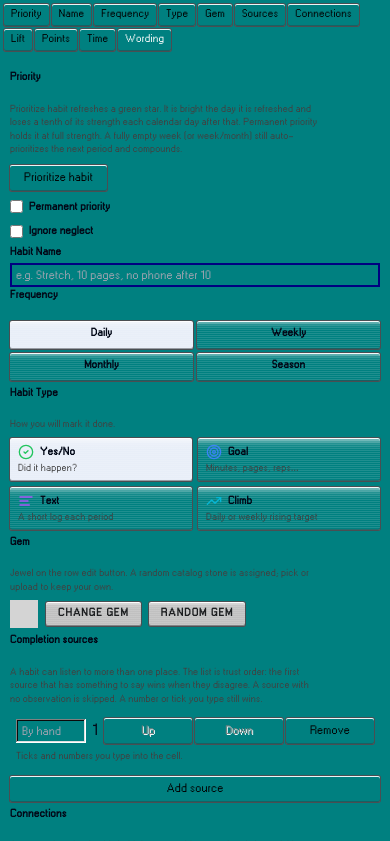
TaskForm › reveals climb cadence fields when Climb type is selected
Click the radio button labelled "Climb Daily or weekly rising target": point(289, 508) [198,486,380,530]
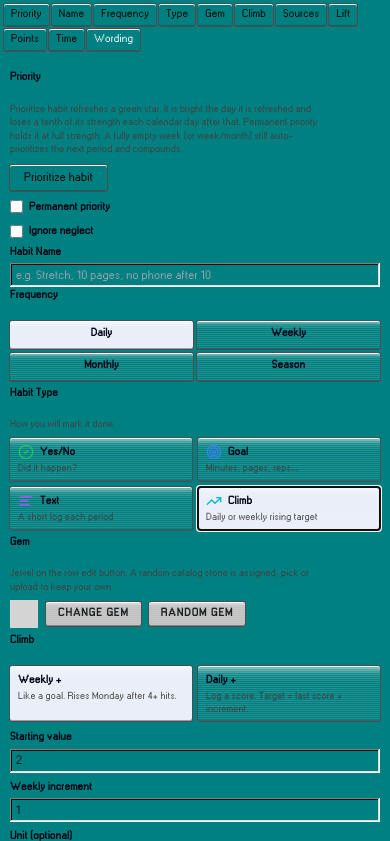
Result: the radio button labelled "Weekly + Like a goal. Rises Monday after 4+ hits." is shown at [10,666,192,721]
Result: the radio button labelled "Daily + Log a score. Target = last score + increment." is shown at [198,666,380,721]
Result: the number field labelled "Starting value" is shown at [10,748,380,772]
